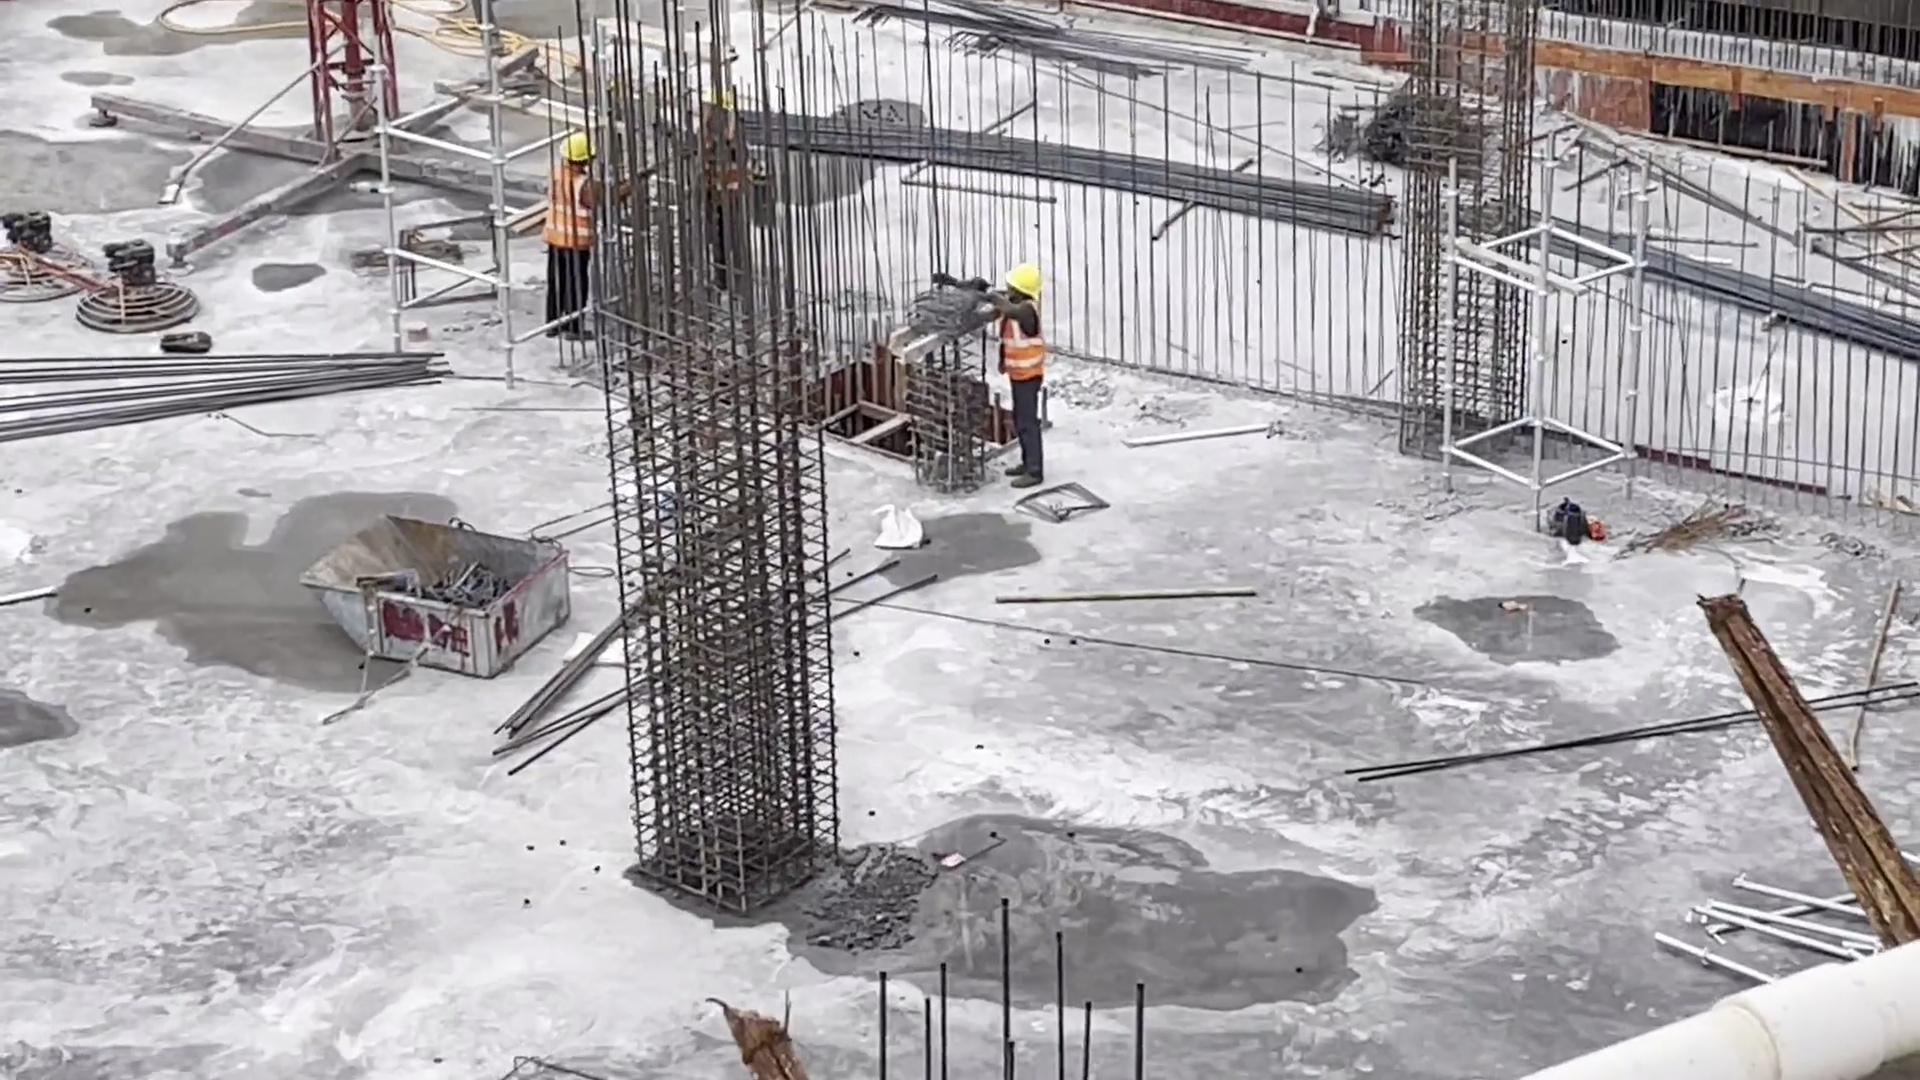helmet: (1004, 262, 1050, 296), (556, 135, 601, 164)
hopper: (294, 506, 582, 686)
person: (976, 254, 1065, 489), (689, 92, 772, 298), (543, 127, 611, 348)
rebar: (801, 101, 1397, 253), (10, 340, 455, 422)
vest: (1000, 300, 1055, 383), (542, 174, 597, 251)
